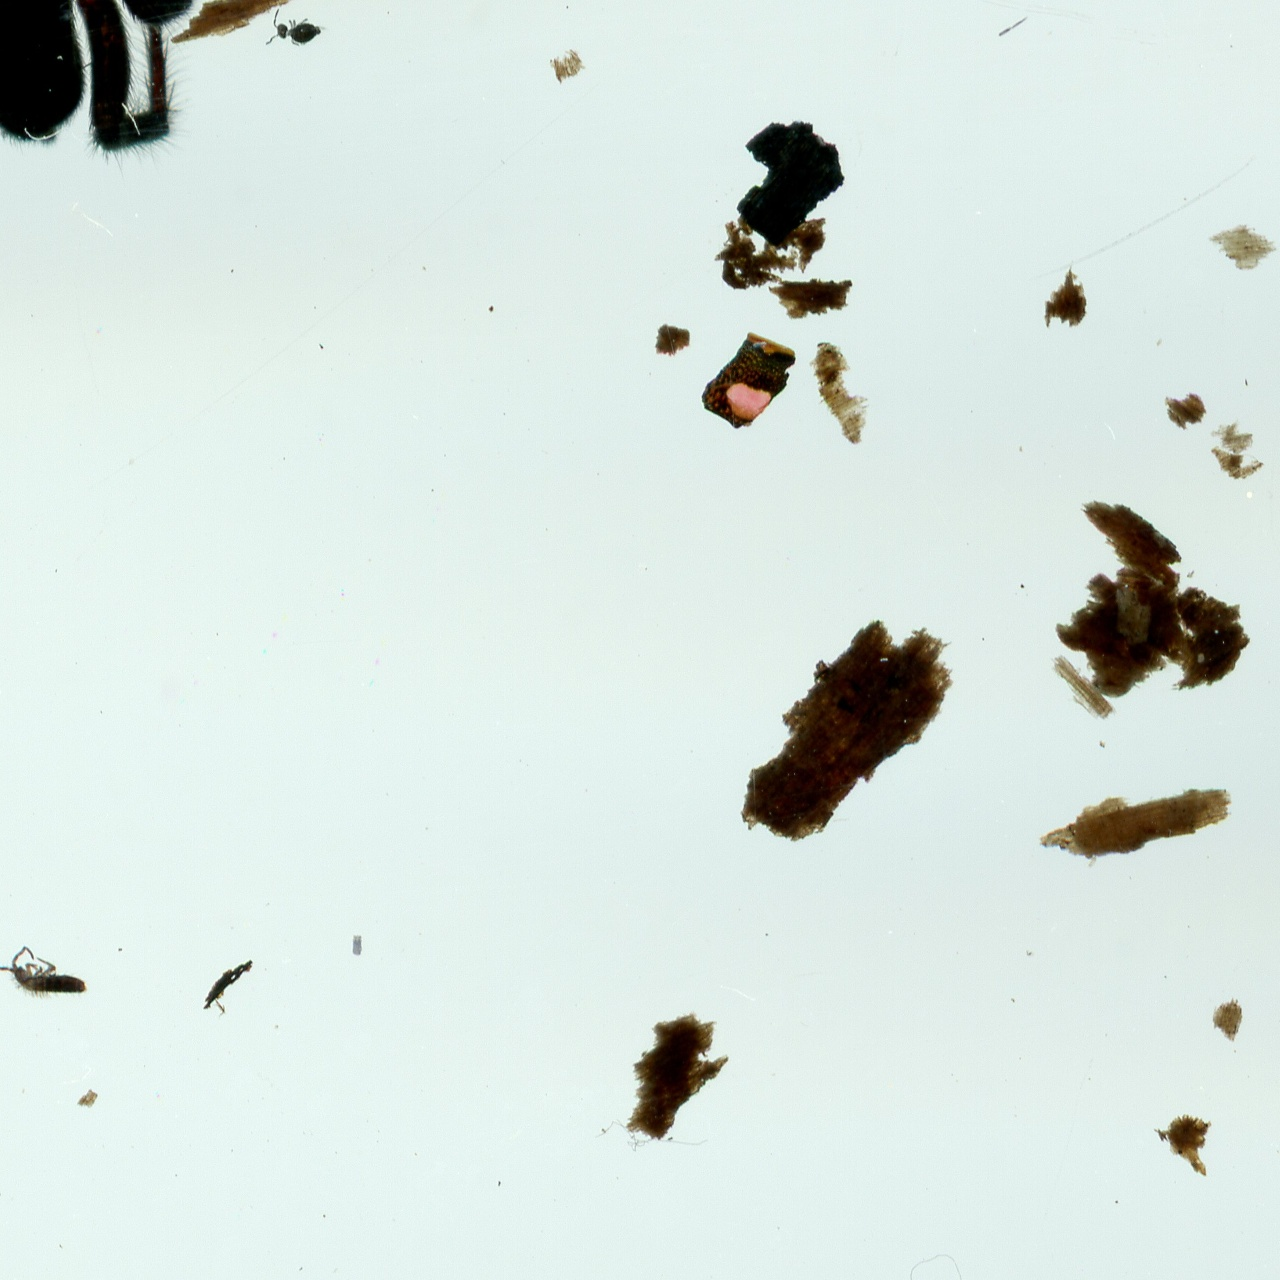arthropod: (0, 0, 223, 179), (0, 942, 94, 1003)
